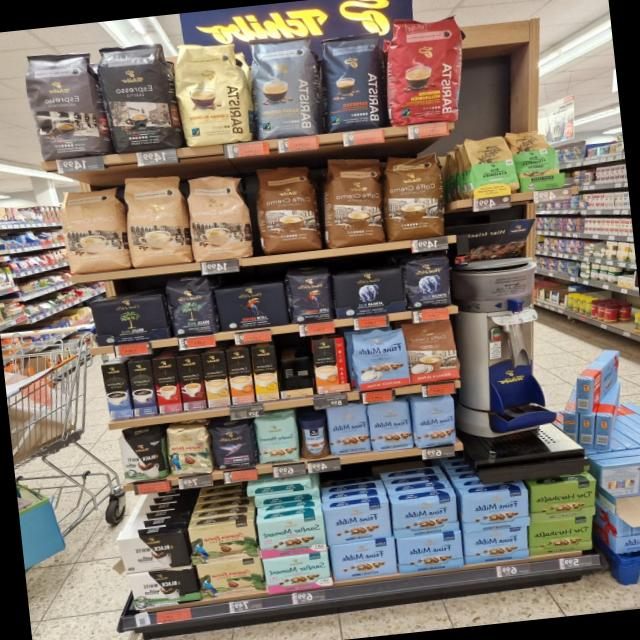AB Bohne: (404, 256, 454, 310)
AB Gemahlen: (329, 268, 407, 320)
Athiopien Bohne: (506, 124, 562, 193)
Athiopien Gemahlen: (461, 132, 517, 196)
BM Bohne: (165, 276, 217, 338)
BM Gemahlen: (88, 292, 170, 346)
BW Bohne: (117, 428, 167, 482)
BW Gemahlen: (114, 530, 190, 574), (128, 566, 199, 610)
Barista CB: (172, 40, 252, 148)
Barista CC: (247, 32, 321, 140)
Barista Espresso: (316, 29, 392, 132)
Barista Kolumbien: (380, 11, 472, 128)
C Fino Bohne: (208, 421, 255, 472)
CC Mild: (120, 173, 190, 268), (56, 186, 128, 276), (184, 174, 255, 262)
CC Vollmundig: (404, 318, 459, 384)
CC Vollmundig 36 Pads: (318, 154, 391, 248), (251, 162, 324, 255), (380, 147, 450, 240)
Colombia BB Bohne: (165, 423, 212, 477)
Colombia BB Gemahlen: (186, 517, 258, 565), (196, 555, 264, 599)
Empty Shelf: (275, 340, 315, 391)
Espresso Aromatisch: (20, 50, 101, 162)
Espresso Kraftig: (97, 40, 176, 154)
FM 36 Pads: (350, 326, 409, 392)
FM Bohne: (410, 394, 459, 448), (366, 398, 413, 452), (325, 402, 371, 456)
FM Gemahlen: (459, 488, 531, 534), (328, 536, 398, 582), (322, 500, 393, 545), (395, 530, 465, 574), (390, 494, 460, 538), (462, 526, 530, 565)
FM Instant: (296, 412, 329, 460)
Herzhatfe Mundig: (526, 478, 600, 522), (525, 515, 597, 556)
LG Bohne: (286, 266, 334, 324)
LG Gemahlen: (213, 280, 289, 332)
SM Bohne: (253, 412, 299, 466)
SM Gemahlen: (256, 512, 326, 558), (261, 550, 332, 594)
Simo CCMild bigpack: (250, 344, 279, 402)
Simo CCVollmundig: (311, 336, 349, 394)
Simo CCVollmundig bigpack: (226, 348, 255, 404)
Simo Decaff: (200, 351, 230, 407)
Simo Es Brazil: (151, 356, 182, 413)
Simo Es Caramel: (175, 354, 206, 410)
Simo Es Kraft: (127, 360, 157, 416)
Simo Es Vanilla: (100, 362, 133, 419)
